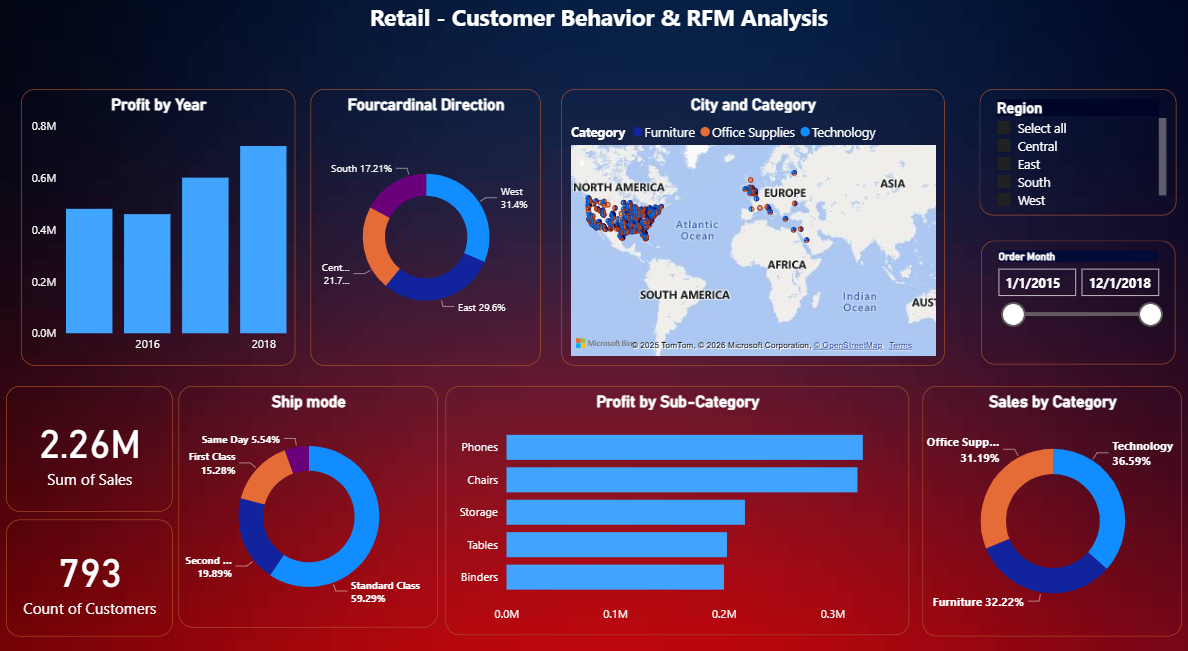

This screenshot's page, from the dashboard's own definition file:
{"tool":"powerbi","page":{"name":"Page 1","canvas":[1280,720],"ordinal":0},"visuals":[{"type":"textbox","box":[354,19.2,559.9,42.5],"z":0},{"type":"columnChart","title":"Profit by Year","fields":{"Category":["sales_cohort_week3.Order Month.Variation.Date Hierarchy.Year","sales_cohort_week3.Order Month.Variation.Date Hierarchy.Quarter","sales_cohort_week3.Order Month.Variation.Date Hierarchy.Month","sales_cohort_week3.Order Month.Variation.Date Hierarchy.Day"],"Y":["Sum(sales_cohort_week3.Sales)"]},"box":[22.9,117,290.8,293.2],"z":1000},{"type":"barChart","title":"Profit by Sub-Category","fields":{"Category":["sales_cohort_week3.Sub-Category"],"Y":["Sum(sales_cohort_week3.Sales)"]},"box":[472.1,432.3,491.1,263.8],"z":2000},{"type":"donutChart","title":"Sales by Category","fields":{"Category":["sales_cohort_week3.Category"],"Y":["Sum(sales_cohort_week3.Sales)"]},"box":[977.5,432.3,275,265.4],"z":3000},{"type":"donutChart","title":"Fourcardinal Direction","fields":{"Category":["sales_cohort_week3.Region"],"Y":["Sum(sales_cohort_week3.Sales)"]},"box":[329.4,117,243.7,293.2],"z":4000},{"type":"card","fields":{"Values":["Sum(sales_cohort_week3.Sales)"]},"box":[6.4,432.3,176.4,133.5],"z":5000},{"type":"donutChart","title":"Ship mode","fields":{"Y":["Sum(sales_cohort_week3.Sales)"],"Category":["sales_cohort_week3.Ship Mode"]},"box":[189.1,432.3,275,255.9],"z":6000},{"type":"map","title":"Location","fields":{"Series":["sales_cohort_week3.Category"],"Category":["sales_cohort_week3.City"]},"box":[594.8,117,406.6,293.2],"z":7000},{"type":"slicer","fields":{"Values":["sales_cohort_week3.Region"]},"box":[1037.5,117,208.7,133.9],"z":8000},{"type":"slicer","fields":{"Values":["sales_cohort_week3.Order Month"]},"box":[1040,278.7,206.3,131.5],"z":9000},{"type":"card","fields":{"Values":["Count(week2_rfm_output.Customer Name)"]},"box":[6.4,573.8,176.4,124],"z":10000}]}

Visuals, with their boxes in screenshot pixels (x1, y1, x2, y2), scaled from the page's 1280x720 canvas onto the 1188x651 screenshot:
textbox: 329/17/848/56
"Profit by Year" columnChart: 21/106/291/371
"Profit by Sub-Category" barChart: 438/391/894/629
"Sales by Category" donutChart: 907/391/1162/631
"Fourcardinal Direction" donutChart: 306/106/532/371
card - Sum(sales_cohort_week3.Sales): 6/391/170/512
"Ship mode" donutChart: 176/391/431/622
"Location" map: 552/106/929/371
slicer - sales_cohort_week3.Region: 963/106/1157/227
slicer - sales_cohort_week3.Order Month: 965/252/1157/371
card - Count(week2_rfm_output.Customer Name): 6/519/170/631
